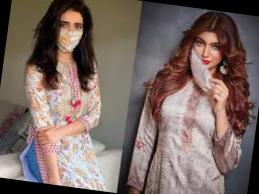mask_weared_incorrect: (192, 35, 221, 71)
with_mask: (59, 15, 84, 43)
